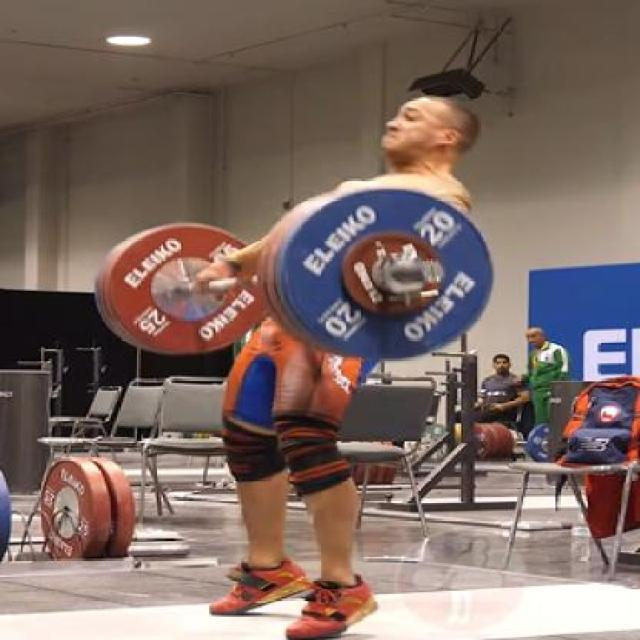barbell: (252, 185, 510, 365)
